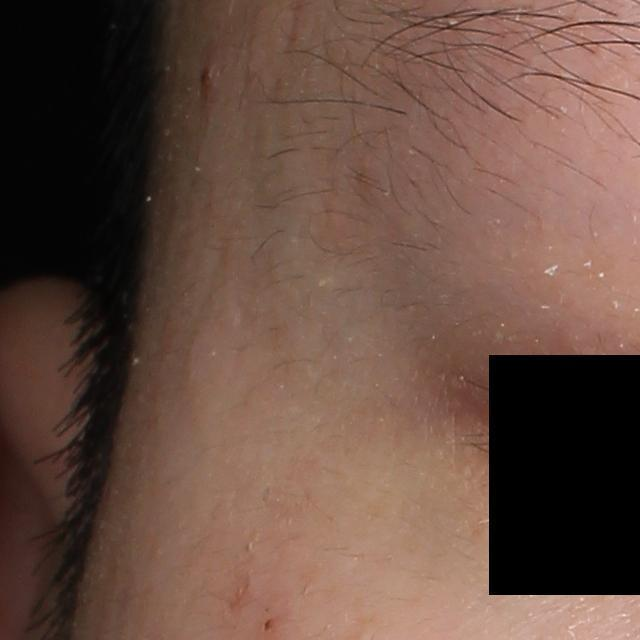papule: (198, 40, 221, 98)
